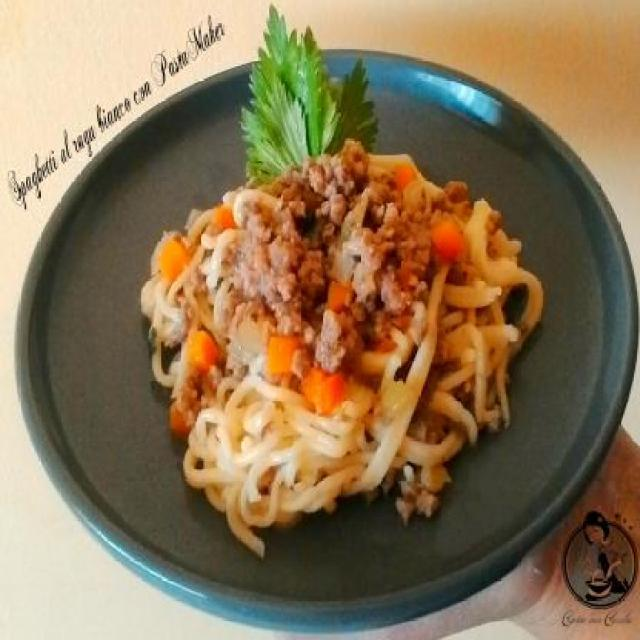Pasta al ragu: (116, 18, 562, 538)
